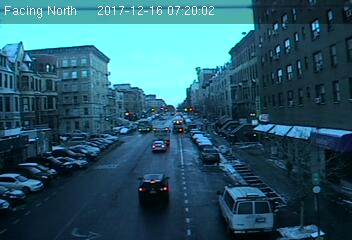bus: (137, 119, 152, 132)
car: (137, 172, 169, 201), (202, 149, 218, 161), (152, 141, 167, 152)
police: (216, 182, 276, 235)
truck: (152, 126, 171, 146)
